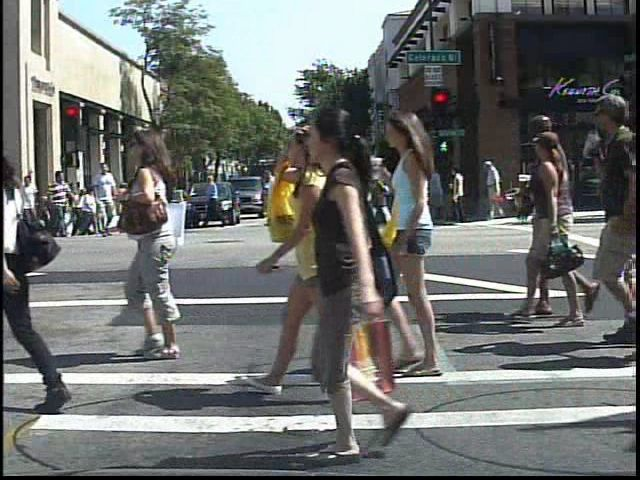person: (304, 104, 424, 468), (374, 106, 514, 382), (250, 114, 365, 397), (0, 116, 81, 422), (108, 117, 202, 363), (585, 79, 634, 350), (91, 160, 124, 241), (46, 164, 75, 241), (481, 155, 510, 226), (14, 170, 38, 242), (100, 178, 121, 219), (164, 175, 183, 210)
